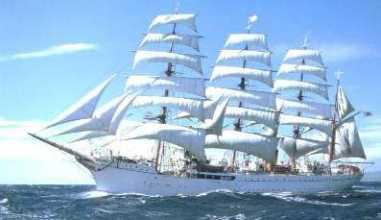fanchuan: (38, 7, 380, 195)
